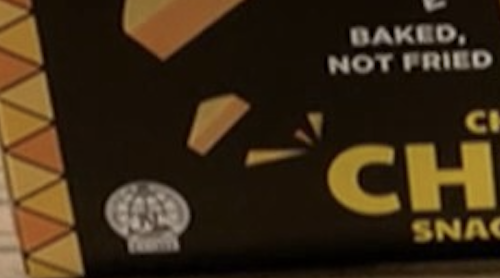halal: (122, 204, 181, 236)
